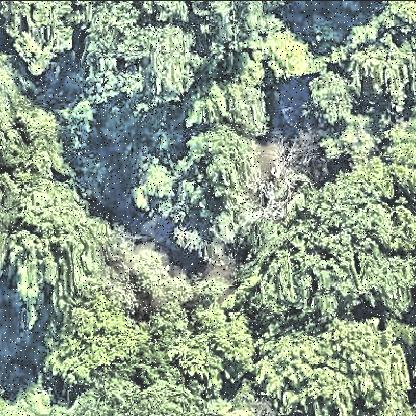tree-top: (247, 167, 416, 316), (255, 320, 395, 415), (4, 182, 104, 297), (38, 284, 146, 386), (75, 348, 205, 416), (125, 144, 209, 228), (2, 88, 70, 180), (136, 19, 201, 103), (6, 5, 75, 72), (201, 302, 261, 366), (347, 39, 405, 101), (303, 68, 361, 126), (262, 22, 312, 84), (1, 376, 66, 416)
